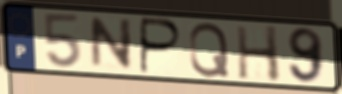5: (41, 12, 84, 70)
9: (285, 25, 326, 87)
H: (233, 24, 283, 84)
N: (88, 16, 135, 72)
P: (138, 15, 185, 76)
Q: (187, 21, 231, 79)
